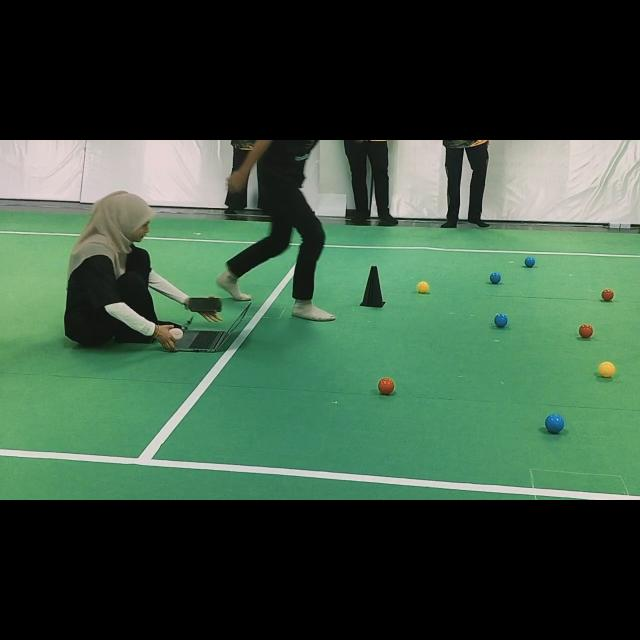ball: (545, 414, 564, 433), (379, 378, 395, 395), (599, 361, 615, 378), (579, 324, 594, 339), (494, 314, 508, 328), (416, 281, 430, 294), (601, 289, 615, 301), (490, 272, 501, 284), (525, 256, 535, 268), (588, 324, 590, 327)
